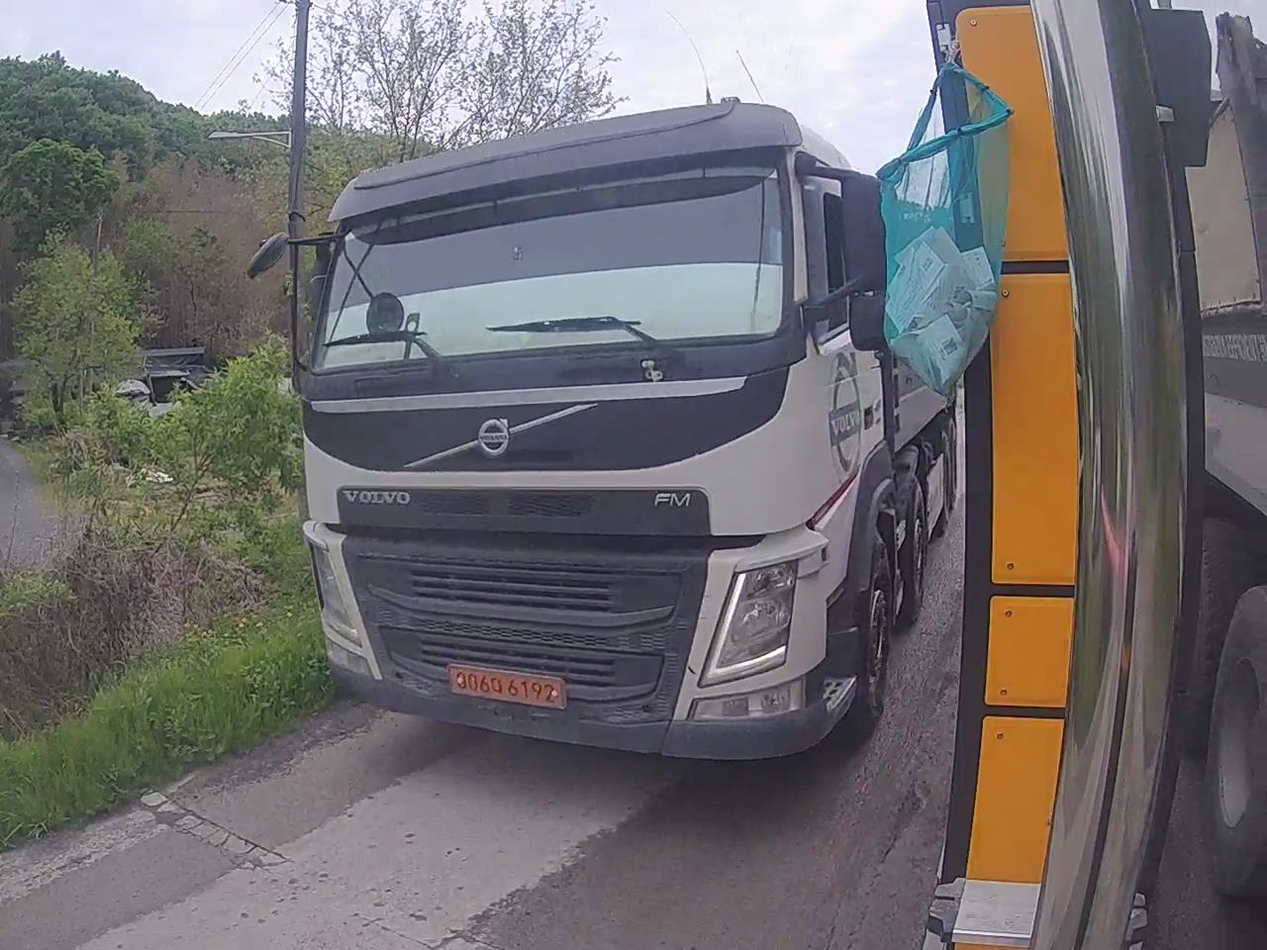license_plate: (448, 666, 564, 709)
truck: (292, 100, 955, 759)
